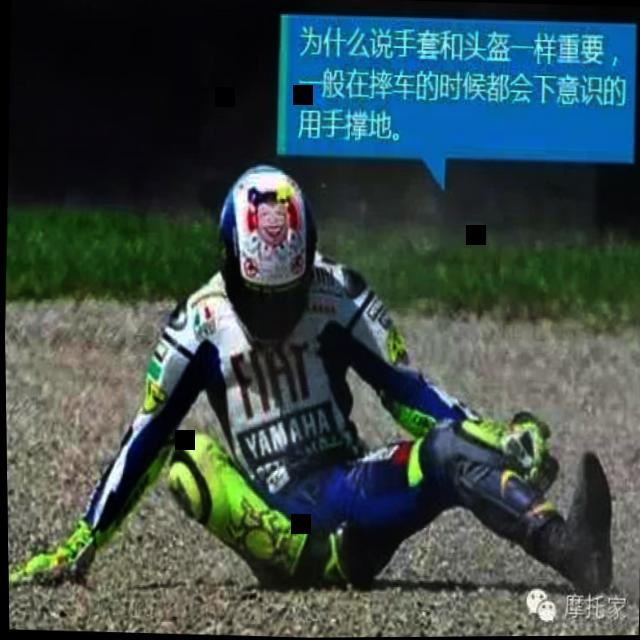Fall-Detected: (2, 145, 640, 608)
